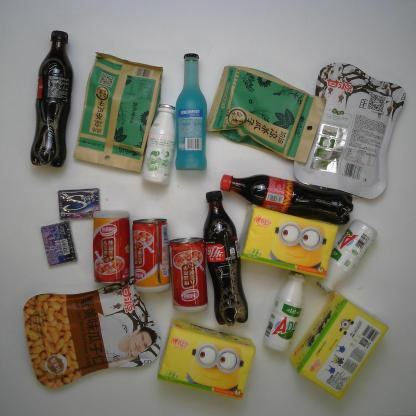Alcohol: (172, 46, 208, 178)
Canned Food: (131, 207, 178, 304), (90, 200, 136, 296), (168, 228, 211, 313)
Dried Food: (211, 51, 332, 165), (79, 34, 164, 188)
Dried Fruit: (20, 259, 164, 397), (300, 59, 414, 206)
Drink: (14, 21, 84, 173), (195, 181, 258, 333), (213, 171, 358, 229)
Gum: (33, 213, 84, 271), (44, 180, 108, 225)
Milk: (318, 215, 387, 295), (260, 265, 316, 356), (141, 100, 179, 189)
Tissue: (283, 280, 400, 404), (152, 307, 284, 404), (235, 198, 341, 287)
